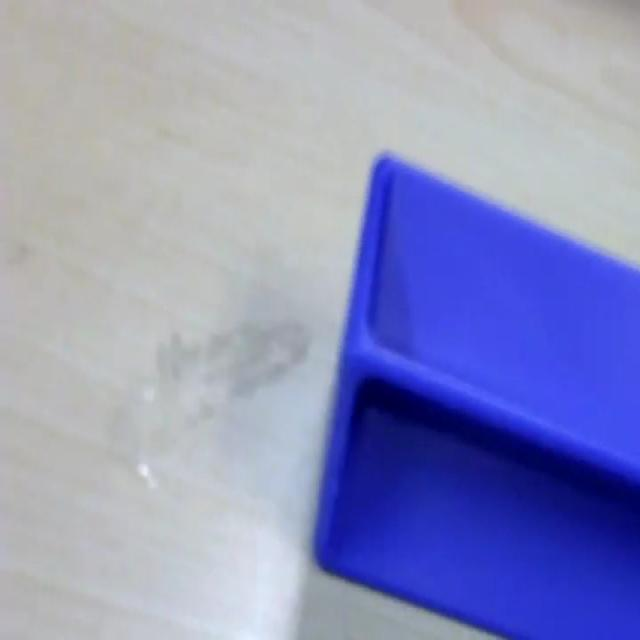blue_block: (311, 148, 638, 637)
